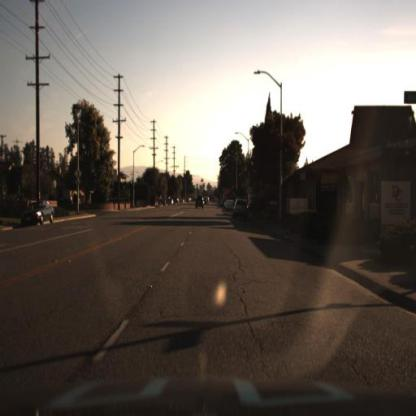car: (18, 197, 56, 235), (20, 197, 57, 235), (230, 197, 252, 223), (193, 192, 208, 212), (225, 198, 235, 213)
